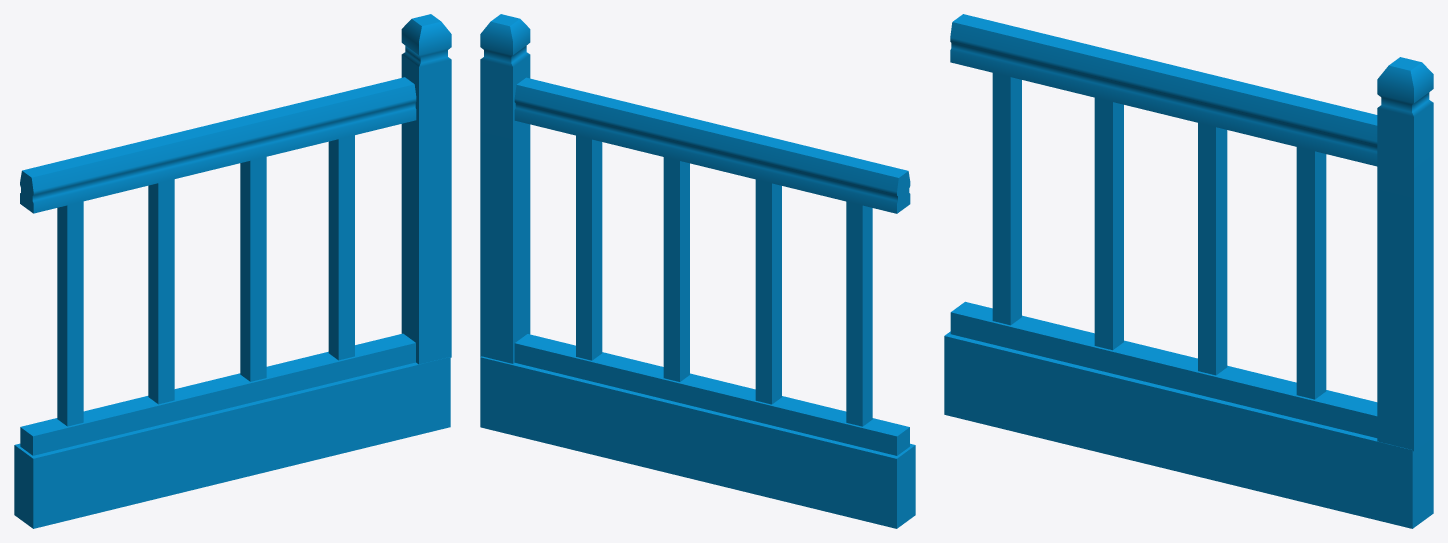
File: Wood_Stairs_04_Fence.fbx
The picture shows the model from 3 angles, left to right: view 1: azimuth 30°, elevation 25°; view 2: azimuth 150°, elevation 25°; view 3: azimuth 330°, elevation 25°; orthographic projection. The views are drawn at different scales.
Visible parts, largest first — view 1: Wood_Stairs_04_Fence; view 2: Wood_Stairs_04_Fence; view 3: Wood_Stairs_04_Fence.
Boxes of the visible parts, x1,y1,x2,y2 form: Wood_Stairs_04_Fence: (14, 14, 451, 528); Wood_Stairs_04_Fence: (480, 14, 915, 528); Wood_Stairs_04_Fence: (944, 14, 1433, 528).
Size of the model in its own units: 151 by 140 by 11.86.
